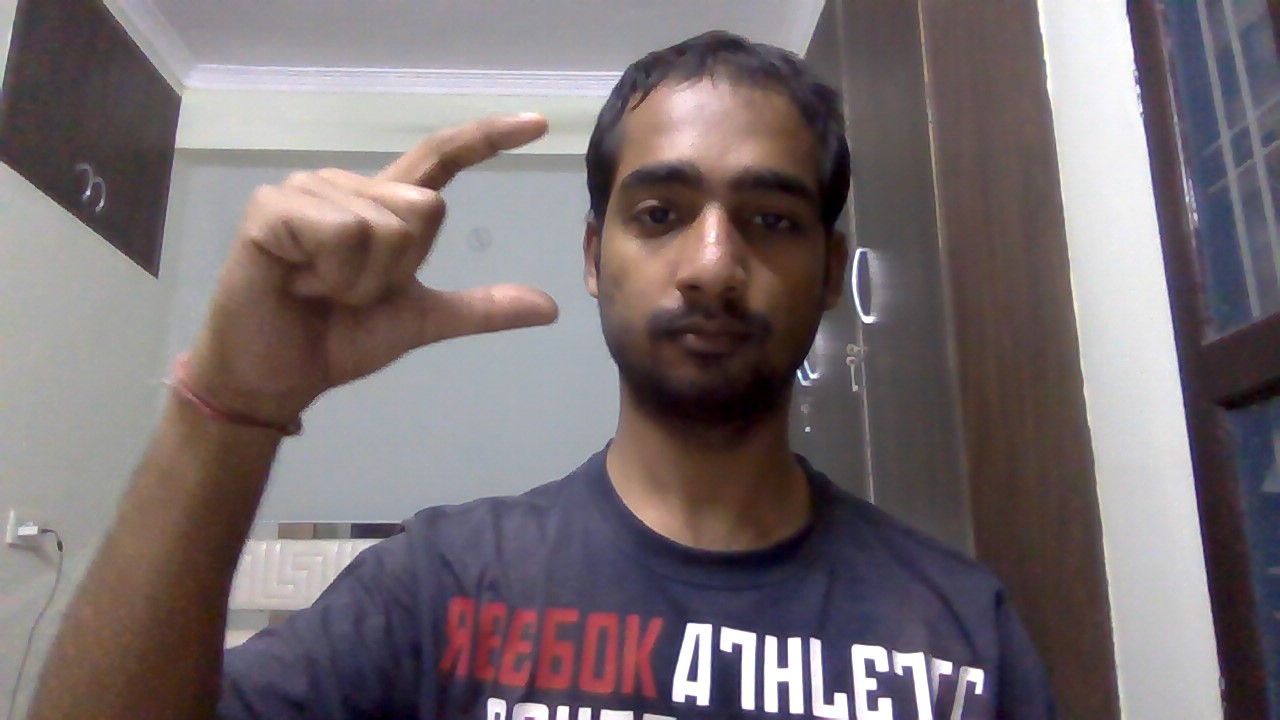Paste: (184, 99, 586, 427)
